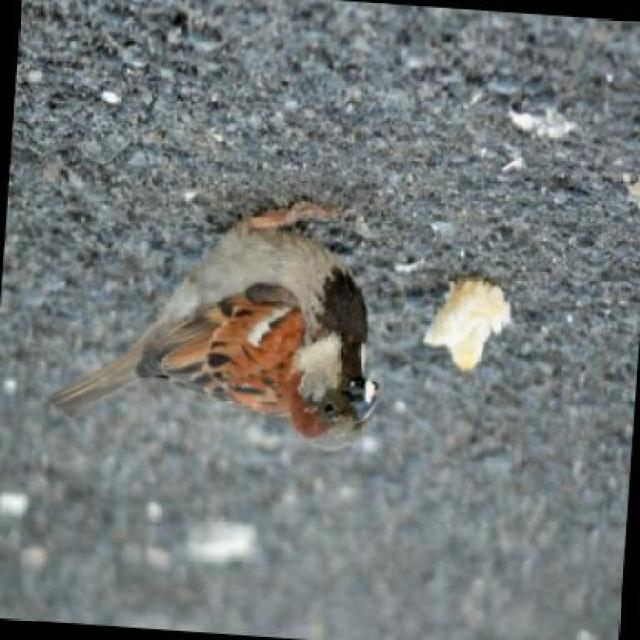sparrow: (41, 181, 392, 462)
